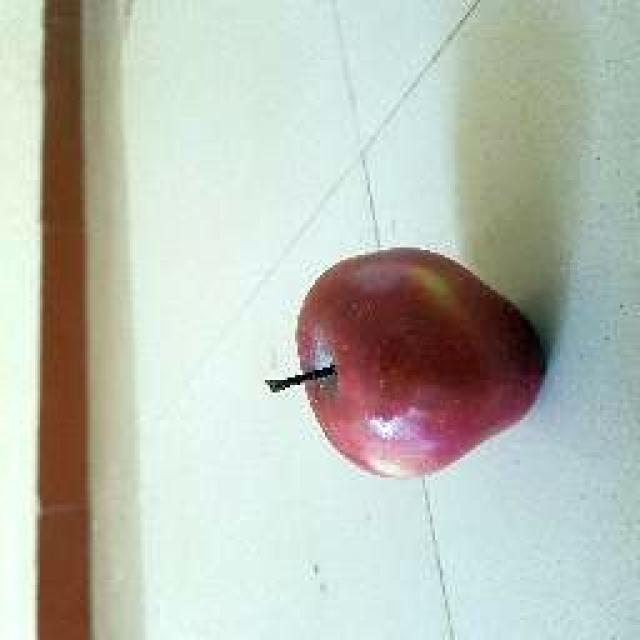Good_Apple: (268, 248, 548, 482)
